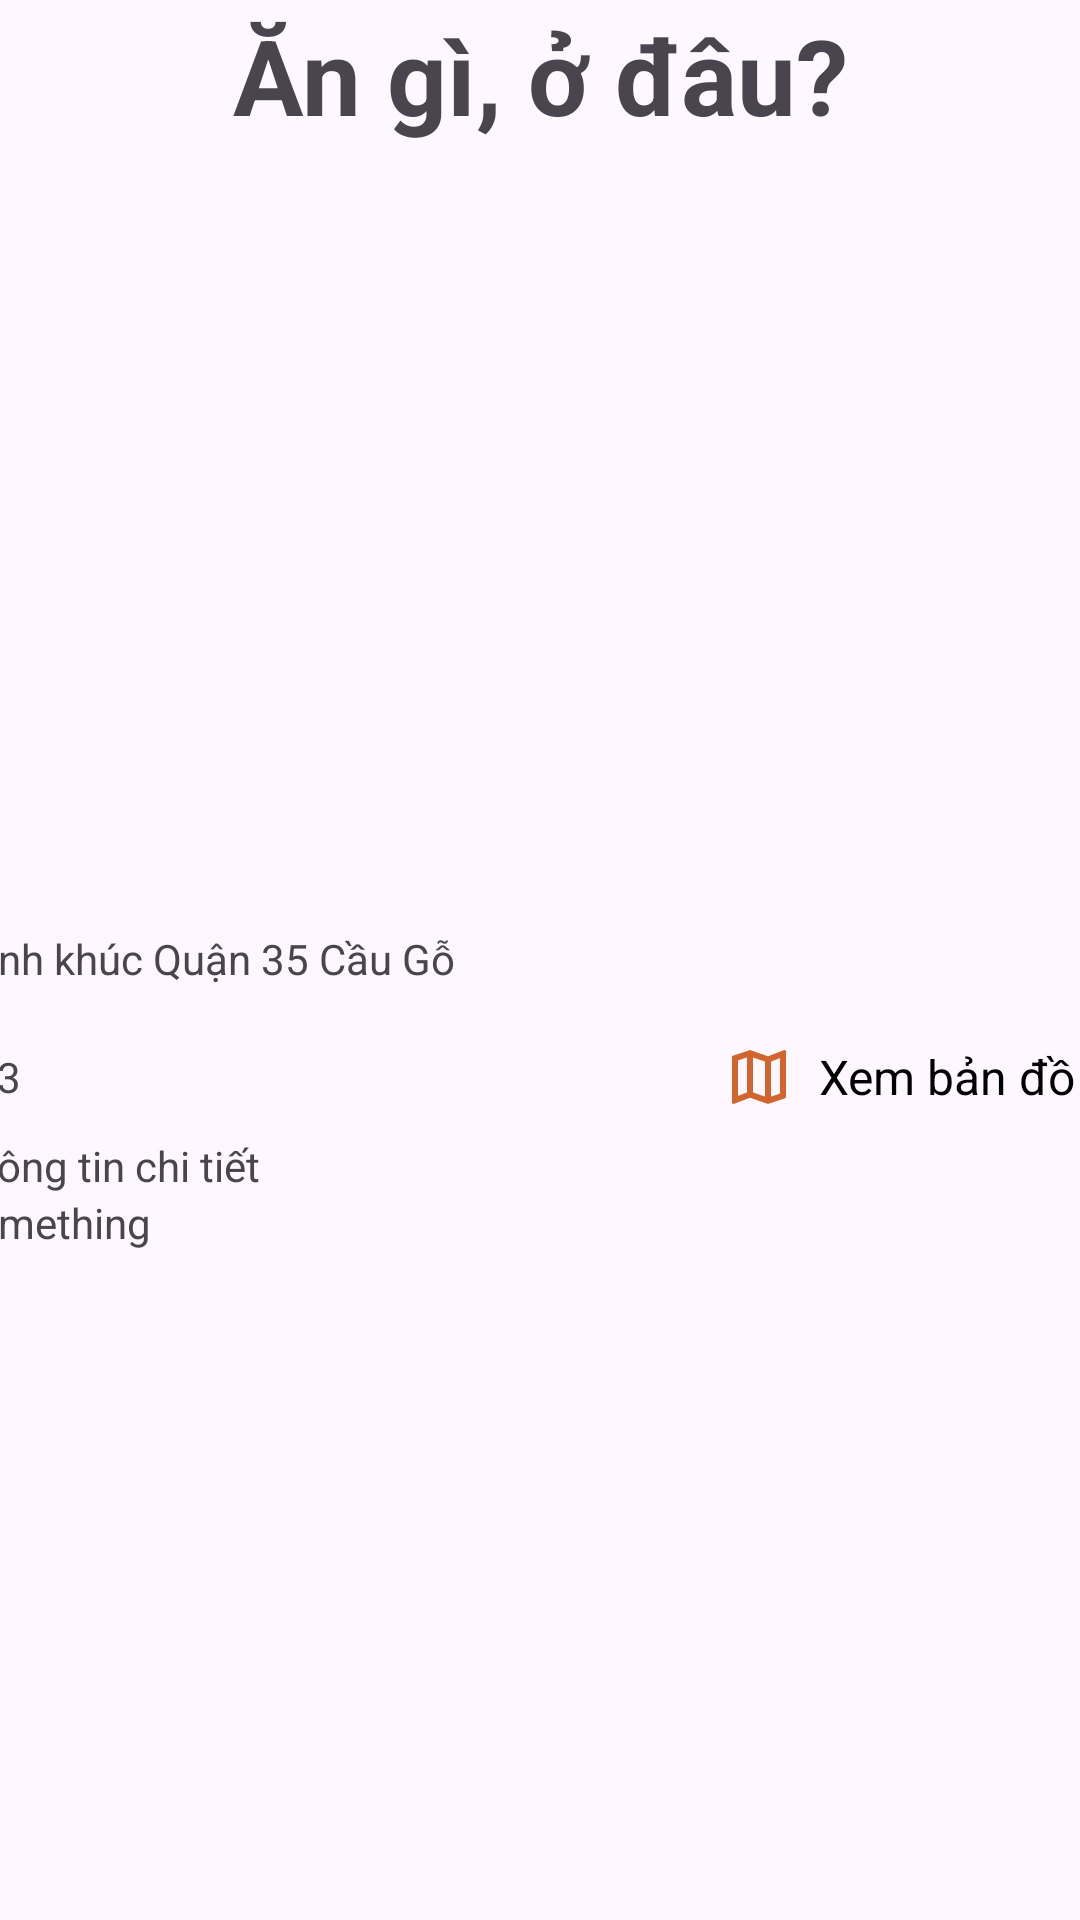

Point at icon controls on the screen. Image size 1080*1920, points as [x,y].
map: [759,1077]
